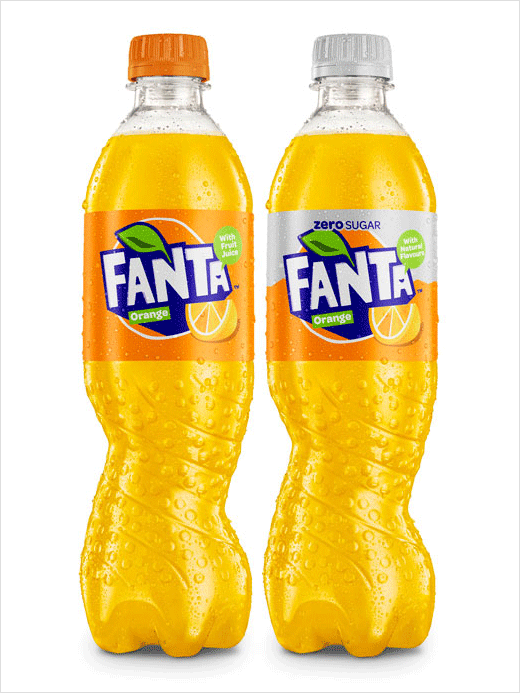fanta_bottle: (264, 33, 438, 660), (86, 34, 251, 657)
